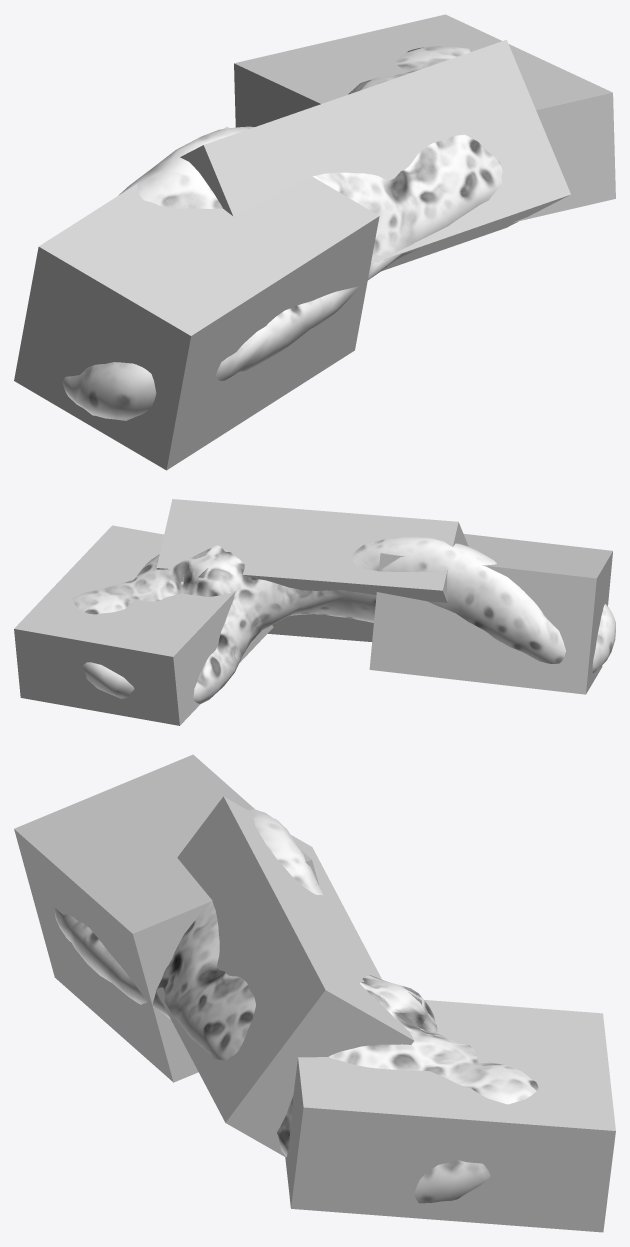
File: Coral_4.glb
3 renders of one model, top to bottom at view 1: azimuth 30°, elevation 25°; view 2: azimuth 150°, elevation 25°; view 3: azimuth 270°, elevation 25°, orthographic. The views are drawn at different scales.
Visible parts, largest first — view 1: Cube.011, Cube.010, A03612_Koralle4.001, Cube.012; view 2: Cube.012, A03612_Koralle4.001, Cube.011, Cube.010; view 3: Cube.012, Cube.010, Cube.011, A03612_Koralle4.001.
Boxes of the visible parts, x1,y1,x2,y2 form: Cube.011: (14, 126, 379, 470); Cube.010: (180, 39, 570, 271); A03612_Koralle4.001: (62, 46, 502, 420); Cube.012: (234, 14, 615, 222); Cube.012: (14, 525, 273, 725); A03612_Koralle4.001: (72, 536, 615, 703); Cube.011: (369, 534, 612, 694); Cube.010: (156, 499, 468, 641); Cube.012: (285, 1000, 615, 1232); Cube.010: (156, 796, 414, 1156); Cube.011: (14, 754, 317, 1082); A03612_Koralle4.001: (54, 809, 538, 1203).
Bounding box in the file's own units: 0.5218 × 0.1858 × 0.4208.
1 material, 1 textured.
